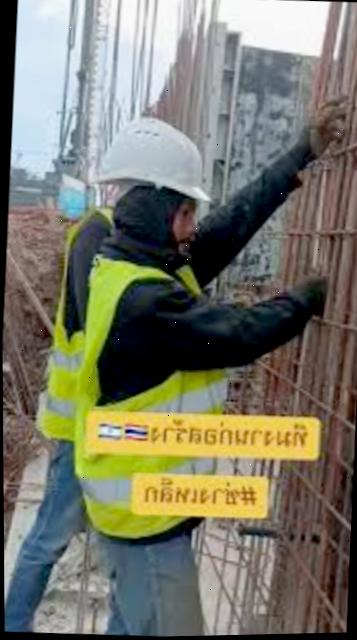helmet: (85, 108, 220, 210)
vest: (80, 245, 260, 566), (11, 213, 103, 450)
